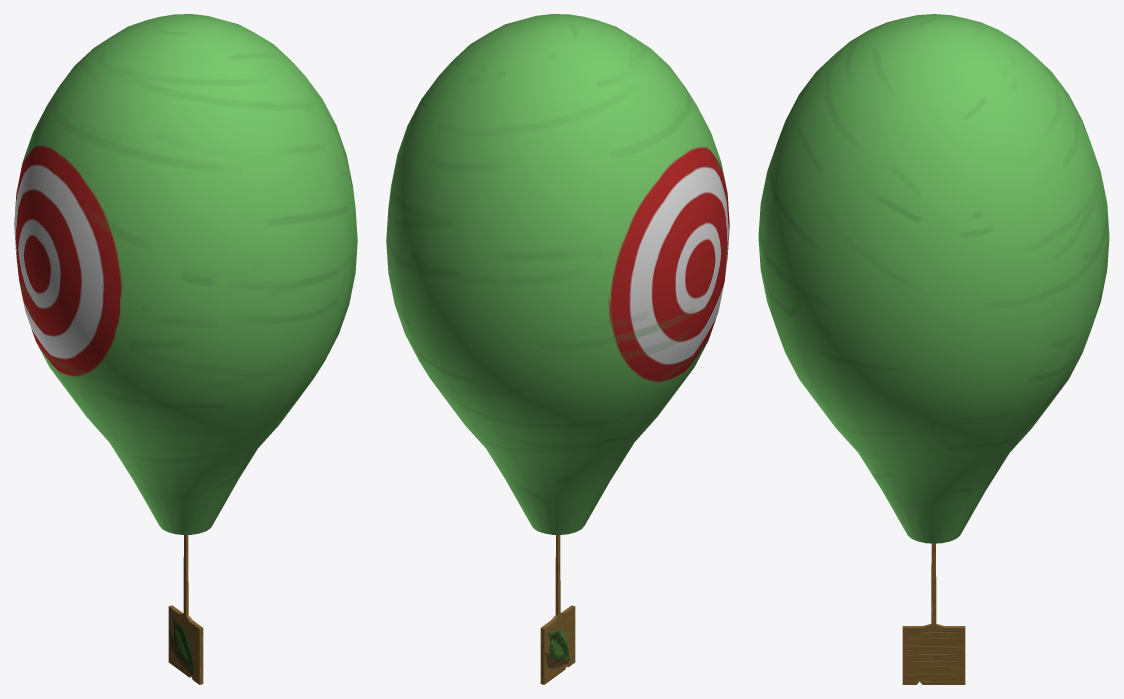
The model's file is balloon_target.glb.
The picture shows the model from 3 angles, left to right: view 1: azimuth 30°, elevation 25°; view 2: azimuth 150°, elevation 25°; view 3: azimuth 270°, elevation 25°; orthographic projection.
Parts seen in each view (by area): view 1: Baloon_baloon, pCube1; view 2: Baloon_baloon, pCube1; view 3: Baloon_baloon, pCube1.
Boxes of the visible parts, x1,y1,x2,y2 form: Baloon_baloon: [14, 14, 357, 534]; pCube1: [168, 535, 203, 684]; Baloon_baloon: [386, 14, 729, 534]; pCube1: [540, 535, 575, 684]; Baloon_baloon: [758, 14, 1109, 543]; pCube1: [902, 543, 965, 684].
Size of the model in its own units: 31.24 by 64.55 by 31.24.
Materials: 1 (1 with a texture image).
